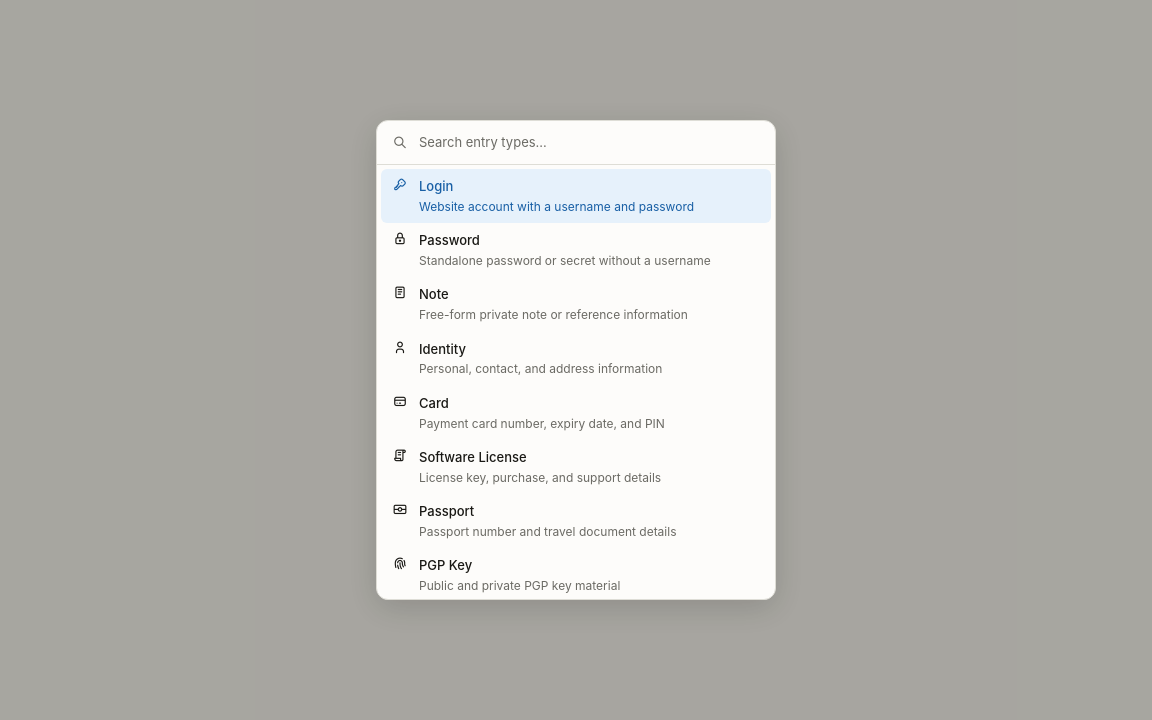
it: CommandPalette › matches entry-type descriptions
Type "travel document" into the field. click: (589, 142)
box: [419,133,759,152]
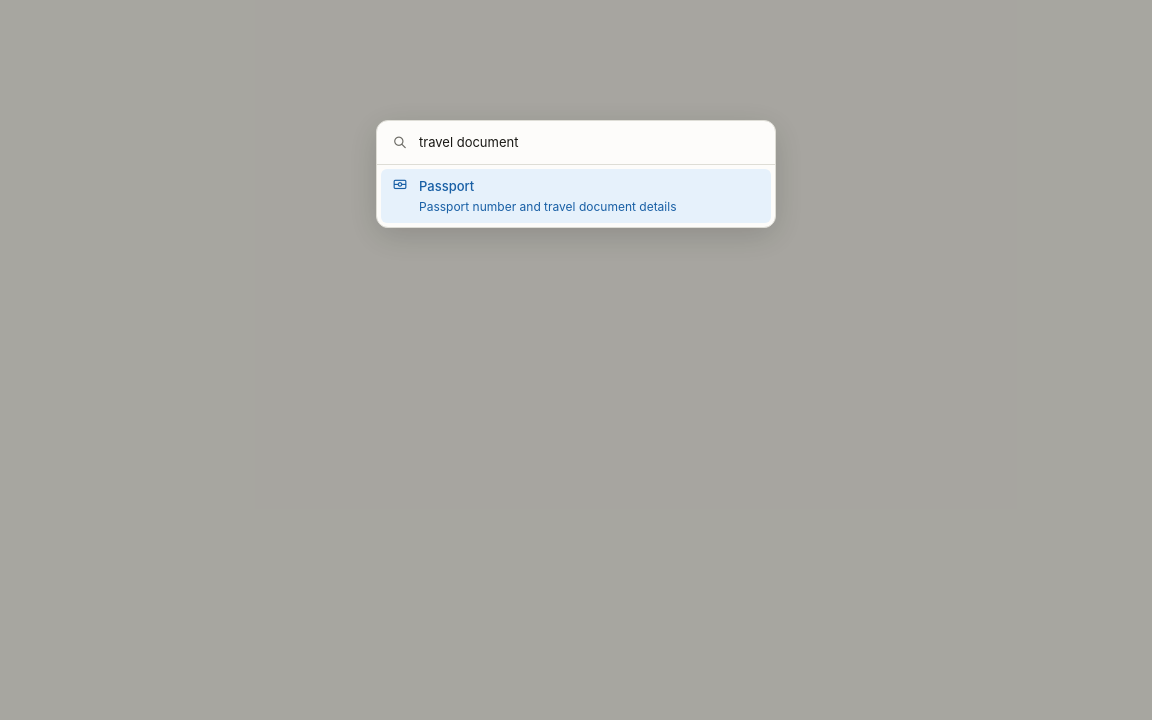
Check: the option "Passport" is shown, box [381,169,771,223]
Check: the option "Login" is gone
